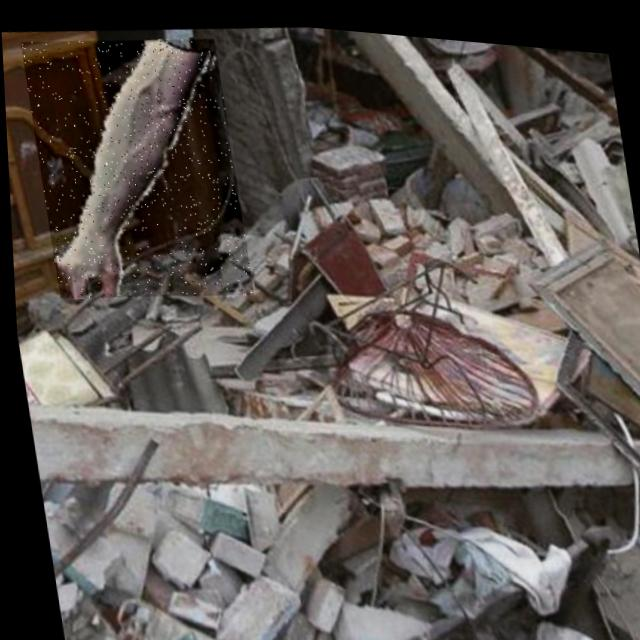Person in Rubble: (19, 21, 252, 310)
